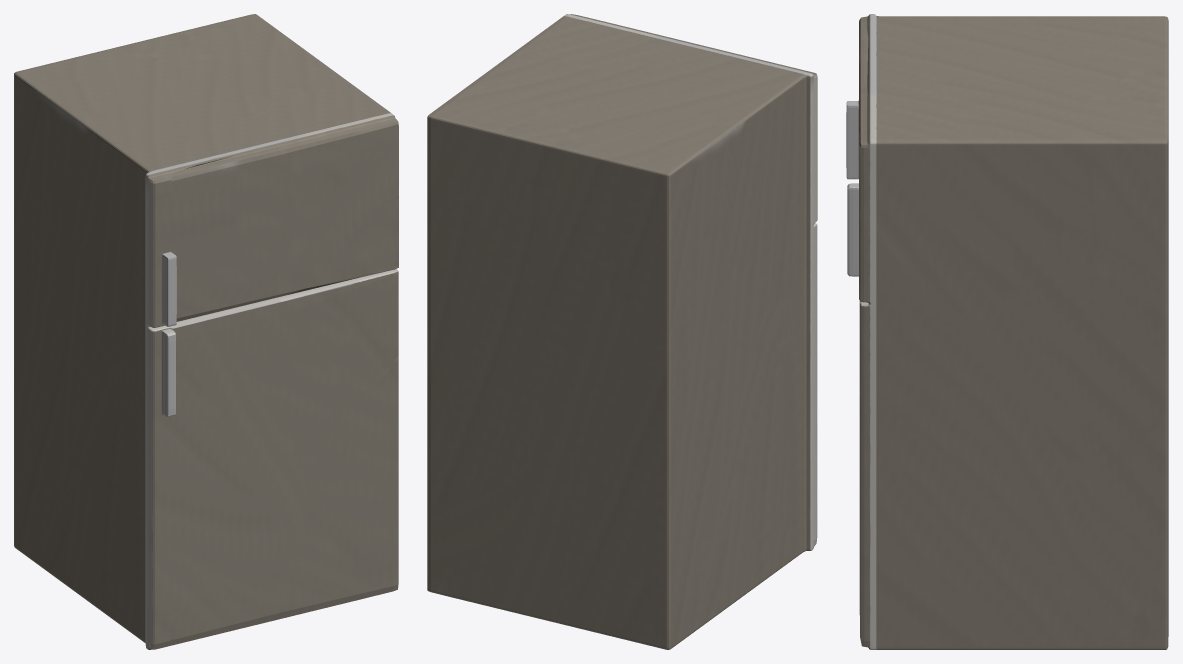
Rendered from _finalFridge.fbx.
3 renders of one model, left to right at view 1: azimuth 30°, elevation 25°; view 2: azimuth 150°, elevation 25°; view 3: azimuth 270°, elevation 25°, orthographic. The views are drawn at different scales.
Visible parts, largest first — view 1: Fridge; view 2: Fridge; view 3: Fridge.
Part boxes in pixels (x1,y1,x2,y2): Fridge: (14, 14, 398, 649); Fridge: (427, 14, 817, 649); Fridge: (846, 14, 1168, 649).
Size of the model in its own units: 387 by 710 by 408.
Materials: 1 (1 with a texture image).
